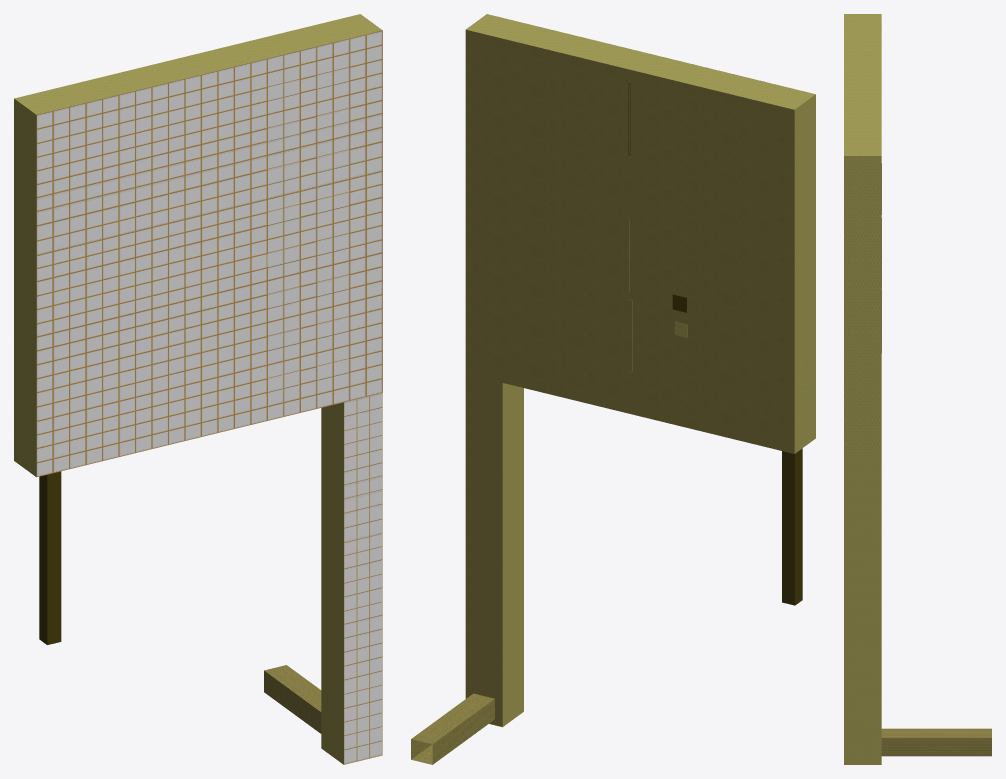
The model's file is backrooms_map_packed_blender_3.2.0.fbx.
3 views of the same model, side by side, from view 1: azimuth 30°, elevation 25°; view 2: azimuth 150°, elevation 25°; view 3: azimuth 270°, elevation 25° (orthographic). The views are drawn at different scales.
Parts seen in each view (by area): view 1: Celing_3, Celing.001_4, Big Square_Wall Paper_15, Hallway Celing_8, Short Hallway_Wall Paper_11, Vent All Sizes_14, Hallway Celing.002_9, Hallway Carpet_7; view 2: Carpet_2, Hallway Carpet_7, Big Square_Wall Paper_15, Short Hallway_Wall Paper_11, Vent All Sizes_14; view 3: Big Square_Wall Paper_15, Short Hallway_Wall Paper_11, Hallway Carpet_7.
Boxes of the visible parts, bbox=[...] form: Celing_3: bbox=[37, 31, 382, 476]; Celing.001_4: bbox=[36, 30, 382, 476]; Big Square_Wall Paper_15: bbox=[14, 14, 382, 476]; Hallway Celing_8: bbox=[344, 393, 382, 763]; Short Hallway_Wall Paper_11: bbox=[321, 402, 382, 764]; Vent All Sizes_14: bbox=[39, 471, 61, 644]; Hallway Celing.002_9: bbox=[344, 393, 382, 764]; Hallway Carpet_7: bbox=[264, 665, 321, 733]; Carpet_2: bbox=[465, 29, 794, 453]; Hallway Carpet_7: bbox=[411, 374, 502, 764]; Big Square_Wall Paper_15: bbox=[466, 14, 815, 453]; Short Hallway_Wall Paper_11: bbox=[490, 383, 523, 727]; Vent All Sizes_14: bbox=[782, 448, 802, 605]; Big Square_Wall Paper_15: bbox=[844, 14, 881, 460]; Short Hallway_Wall Paper_11: bbox=[844, 460, 881, 764]; Hallway Carpet_7: bbox=[881, 728, 991, 756].
Size of the model in its own units: 44.79 by 89.59 by 19.71.
8 materials, 3 textured.
